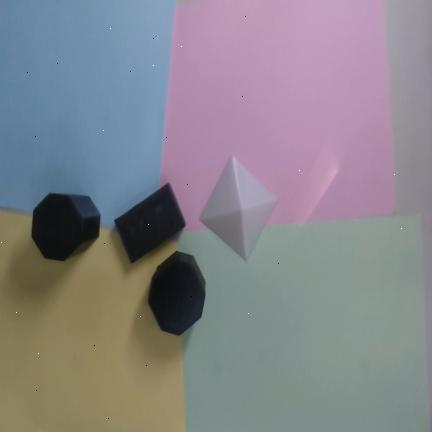Paralelepipedo: (114, 182, 187, 264)
Piramide: (199, 156, 277, 261)
Prisma_hexagonal: (148, 251, 206, 336), (32, 193, 101, 261)
